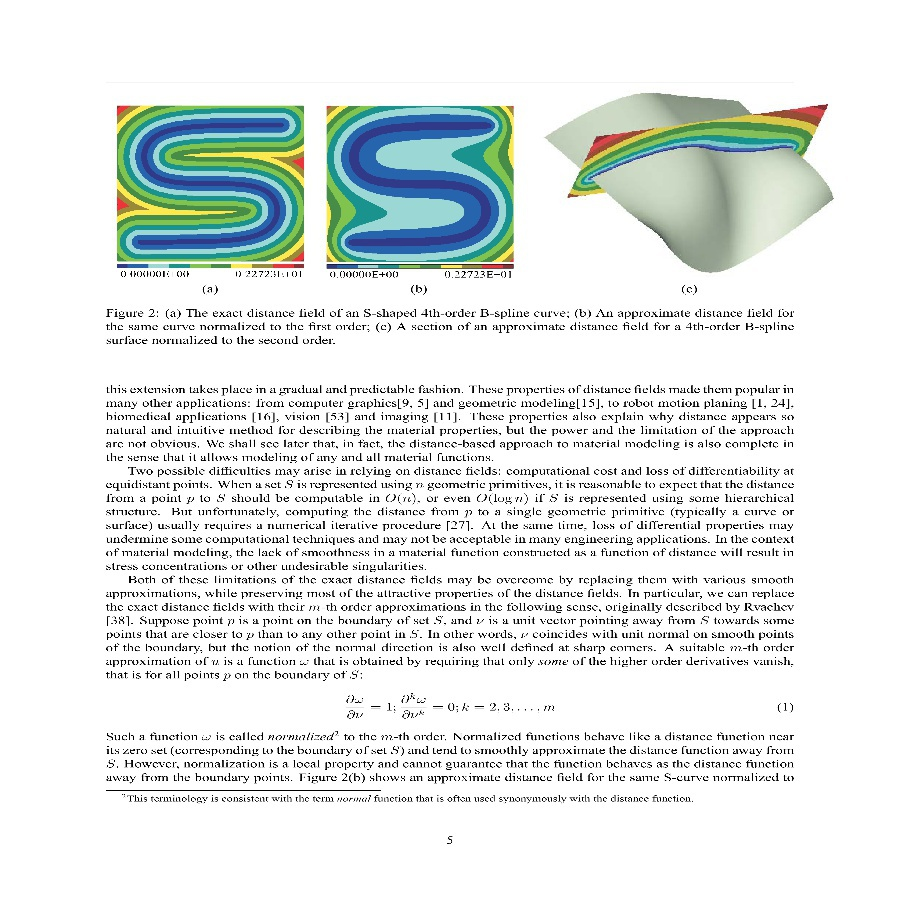eq: (337, 691, 561, 724)
